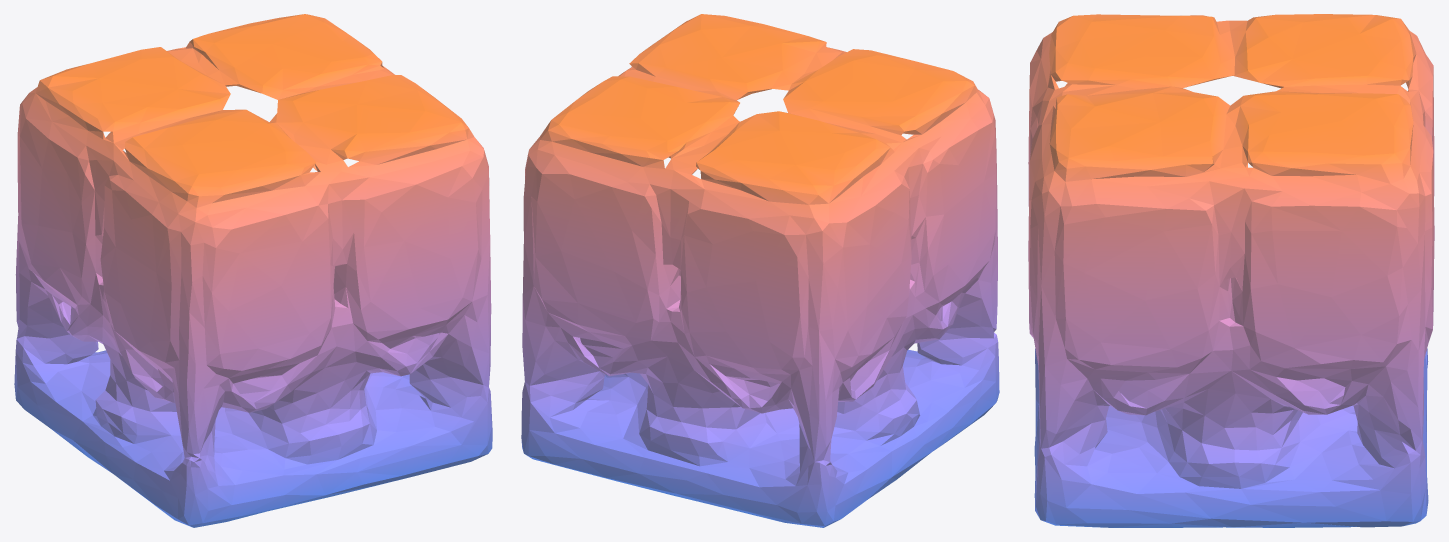
Rendered from 24_cyb_laser_gradient_fish_scales_2819_2026_10_03_2386c5.glb.
The picture shows the model from 3 angles, left to right: view 1: azimuth 30°, elevation 25°; view 2: azimuth 150°, elevation 25°; view 3: azimuth 270°, elevation 25°; orthographic projection. The views are drawn at different scales.
Parts seen in each view (by area): view 1: geometry_0; view 2: geometry_0; view 3: geometry_0.
Boxes of the visible parts, bbox=[...] form: geometry_0: bbox=[14, 14, 492, 527]; geometry_0: bbox=[521, 14, 999, 527]; geometry_0: bbox=[1028, 14, 1434, 527].
Bounding box in the file's own units: 0.9996 × 0.9959 × 1.
